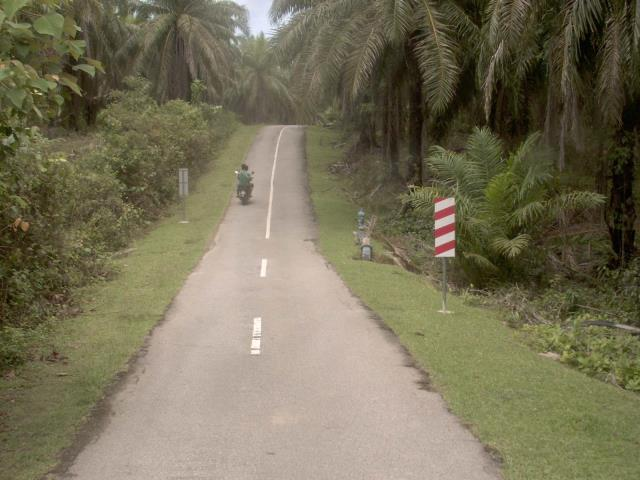traffic_sign: (424, 188, 462, 265)
